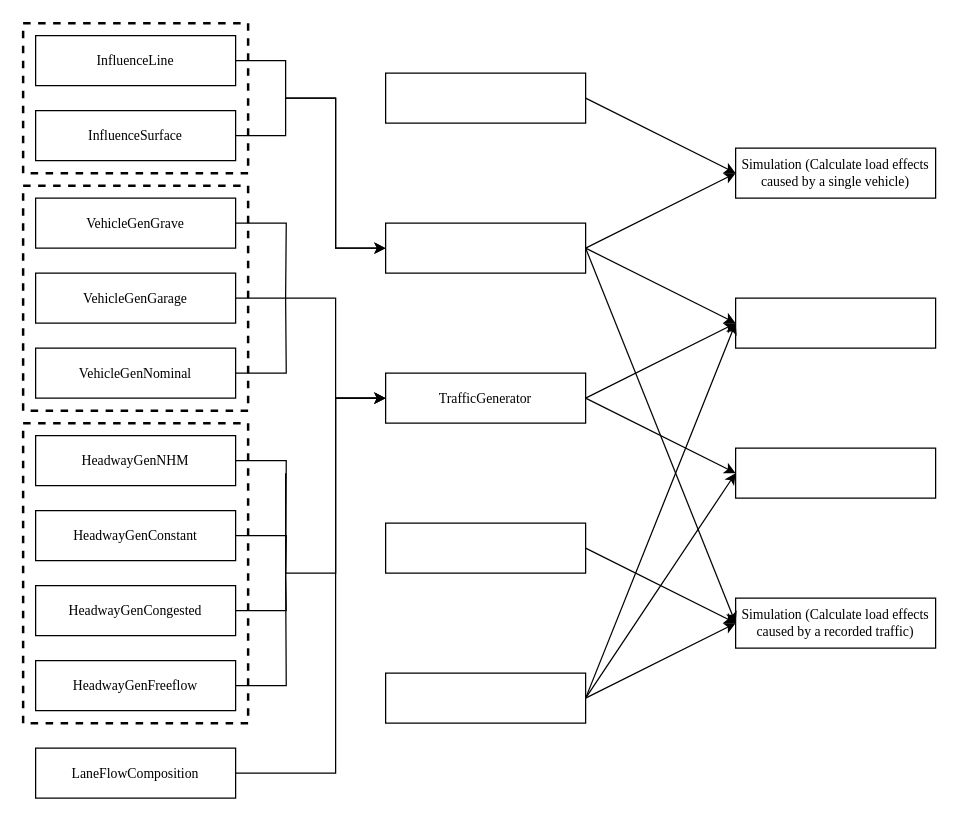
Some shapes in this 958 by 820 pixel diagram are drawn without their labels. Here are the shapes that lost their labels. From the top down, the centre of each, then its label:
At [485,97]: "Vehicle".
At [485,247]: "Bridge".
At [835,322]: "Simulation (Calculate load effects caused by a generated traffic)".
At [835,472]: "Simulation (Generate a traffic)".
At [485,547]: "TrafficLoader".
At [485,697]: "OutputConfig".
